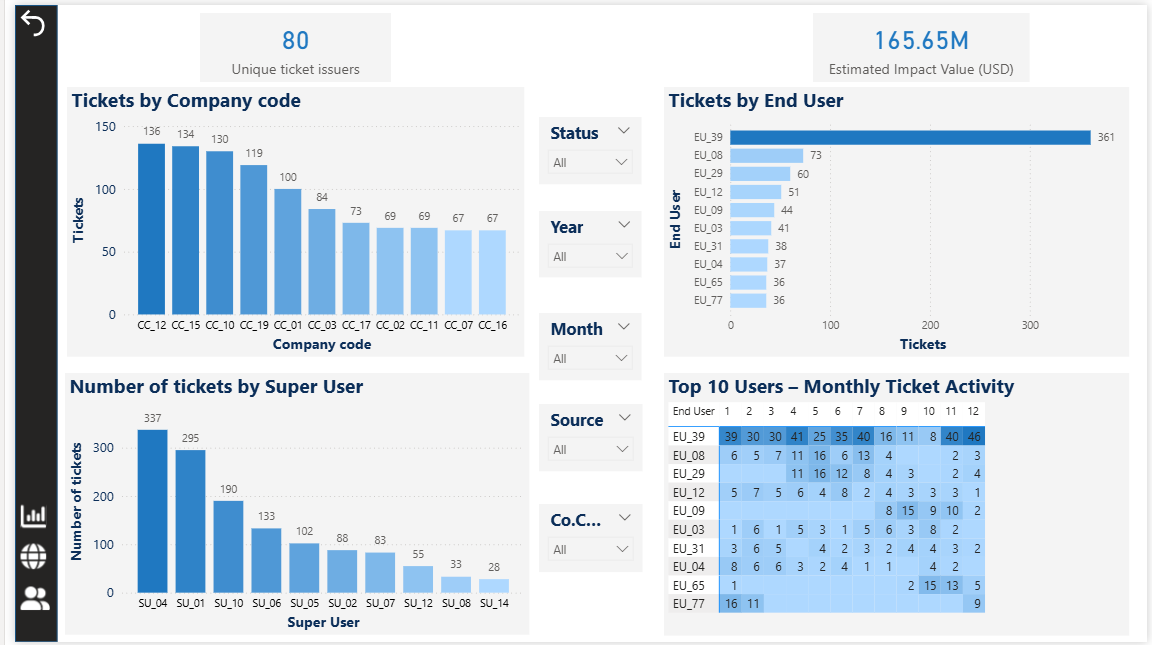

The page's visual inventory and layout, read from the dashboard file:
{"tool":"powerbi","page":{"name":"Users","canvas":[1280,720],"ordinal":2},"visuals":[{"type":"actionButton","box":[2.8,559.2,41.3,37.1],"z":0,"group":"g1"},{"type":"shape","box":[0,0,48.1,720.4],"z":1000},{"type":"actionButton","box":[2.8,604.1,41.3,37.1],"z":1000,"group":"g1"},{"type":"actionButton","box":[3.3,649.9,41.3,42.2],"z":2000,"group":"g1"},{"type":"card","fields":{"Values":["Count(Ticket log.End User)"]},"box":[209.7,8.8,216.3,77.9],"z":3000},{"type":"clusteredBarChart","fields":{"Y":["Measures_table.Number of tickets"],"Category":["Ticket log.End User"]},"box":[734.4,92.2,525.8,305.2],"z":4000},{"type":"slicer","fields":{"Values":["Ticket log.STATUS "]},"box":[592,127,116,76.2],"z":5000},{"type":"clusteredColumnChart","fields":{"Category":["Ticket log.Company code"],"Y":["Measures_table.Number of tickets"]},"box":[59.3,92.2,517,305.2],"z":6000},{"type":"clusteredColumnChart","fields":{"Category":["Ticket log.Super User"],"Y":["Measures_table.Number of tickets"]},"box":[56,416.1,524.7,296.4],"z":7000},{"type":"slicer","fields":{"Values":["Ticket log.Month"]},"box":[592,347.9,116,76.2],"z":8000},{"type":"slicer","fields":{"Values":["Ticket log.Ticket type"]},"box":[592,451.7,117.1,76.2],"z":9000},{"type":"group","id":"g1","title":"Navigation buttons","box":[2.8,559.2,42.2,133.1],"z":10000},{"type":"actionButton","box":[0,0,48.7,40.4],"z":11000},{"type":"pivotTable","title":"Top 10 Users – Monthly Ticket Activity","fields":{"Rows":["Ticket log.End User"],"Columns":["Ticket log.Month"],"Values":["Measures_table.Number of tickets"]},"box":[734.4,416.1,525.8,297.5],"z":12000},{"type":"slicer","fields":{"Values":["Ticket log.Company code"]},"box":[592,564.3,117.1,77.3],"z":13000},{"type":"card","fields":{"Values":["Sum(Ticket log.Absolute value in USD (estimated))"]},"box":[902.4,8.8,244.8,77.9],"z":15000},{"type":"slicer","fields":{"Values":["Ticket log.Year"]},"box":[592.4,233,116.5,75.3],"z":15001}]}

Visuals, with their boxes on the page's 1280x720 design canvas (x1, y1, x2, y2). These are canvas units, not pixel positions in the 1152x645 screenshot, which may show the page scaled, cropped or inside an application window:
actionButton: (3,559,44,596)
shape: (0,0,48,720)
actionButton: (3,604,44,641)
actionButton: (3,650,45,692)
card - Count(Ticket log.End User): (210,9,426,87)
clusteredBarChart - Measures_table.Number of tickets x Ticket log.End User: (734,92,1260,397)
slicer - Ticket log.STATUS : (592,127,708,203)
clusteredColumnChart - Ticket log.Company code x Measures_table.Number of tickets: (59,92,576,397)
clusteredColumnChart - Ticket log.Super User x Measures_table.Number of tickets: (56,416,581,712)
slicer - Ticket log.Month: (592,348,708,424)
slicer - Ticket log.Ticket type: (592,452,709,528)
"Navigation buttons" group: (3,559,45,692)
actionButton: (0,0,49,40)
"Top 10 Users – Monthly Ticket Activity" pivotTable: (734,416,1260,714)
slicer - Ticket log.Company code: (592,564,709,642)
card - Sum(Ticket log.Absolute value in USD (estimated)): (902,9,1147,87)
slicer - Ticket log.Year: (592,233,709,308)
